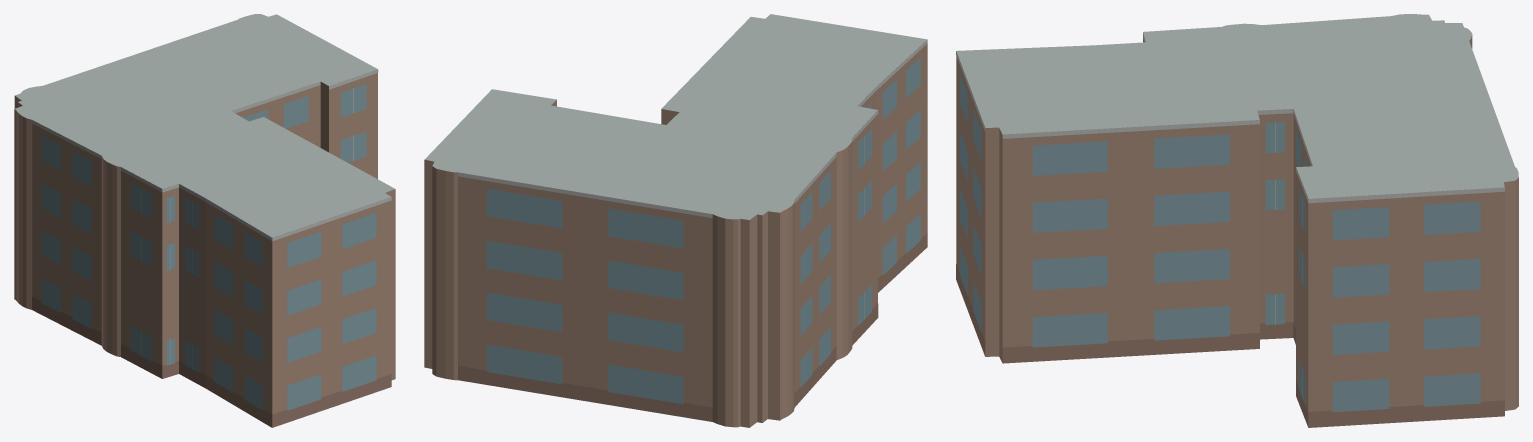
Rendered from survey-upis-32584473.glb.
3 views of the same model, side by side, from view 1: azimuth 30°, elevation 25°; view 2: azimuth 150°, elevation 25°; view 3: azimuth 270°, elevation 25° (orthographic). The views are drawn at different scales.
Parts seen in each view (by area): view 1: survey-upis-32584473.tmp; view 2: survey-upis-32584473.tmp; view 3: survey-upis-32584473.tmp.
Part boxes in pixels (box(x1,y1,x2,y2)): survey-upis-32584473.tmp: box(14, 14, 395, 427); survey-upis-32584473.tmp: box(424, 14, 927, 427); survey-upis-32584473.tmp: box(956, 14, 1518, 427).
Bounding box in the file's own units: 22.28 × 12.85 × 28.63.
